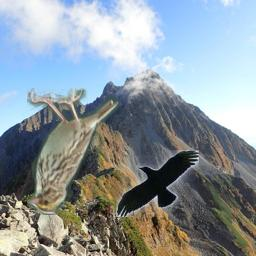Crow: (116, 150, 199, 217)
Sparrow: (27, 88, 119, 215)
